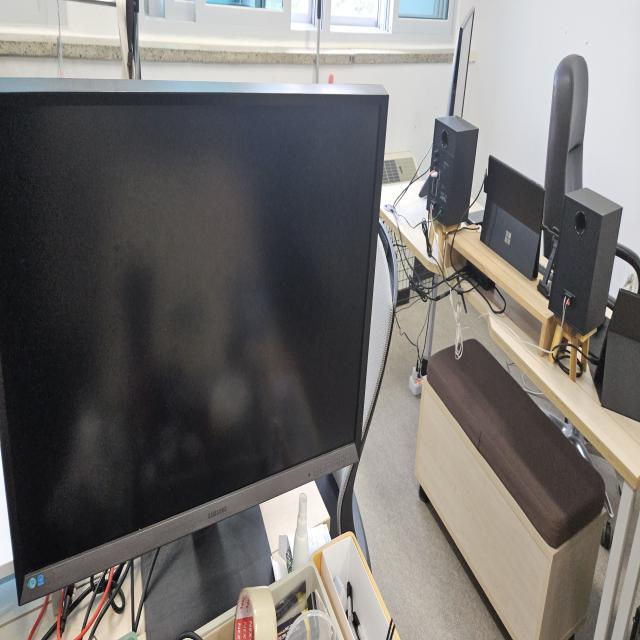Monitor: (2, 74, 390, 604)
